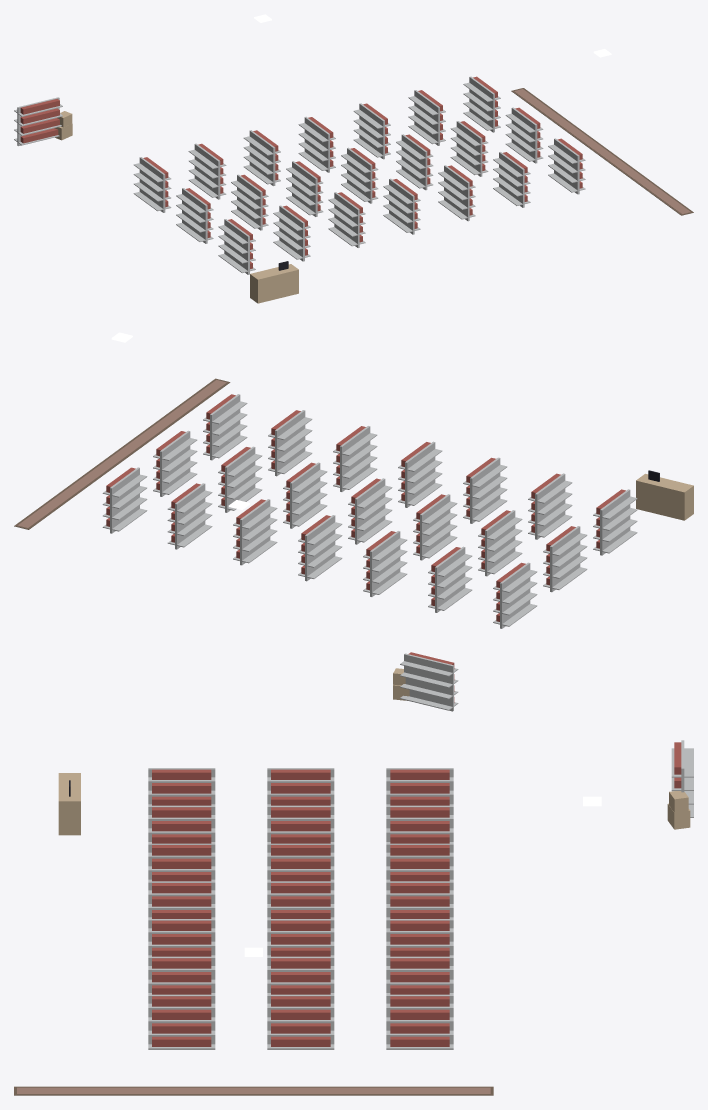
The model's file is fine-s0.glb.
3 views of the same model, one above another, from view 1: azimuth 30°, elevation 25°; view 2: azimuth 150°, elevation 25°; view 3: azimuth 270°, elevation 25° (orthographic). The views are drawn at different scales.
Visible parts, largest first — view 1: soft-s0, shelving.000, shop-counter.000, shelf.019, shelf.003, shelf.000, shelf.013, shelf.016, shelf.006, shelf.009, shelf.020, shelf.004 (+12 smaller); view 2: soft-s0, shelving.000, shop-counter.000, shelf.015, shelf.004, shelf.002, shelf.007, shelf.010, shelf.011, shelf.012, shelf.013, shelf.003 (+12 smaller); view 3: soft-s0, shelf.018, shelf.019, shelf.020, shelf.003, shelf.006, shelf.015, shelf.004, shelf.005, shelf.016, shelf.017, shelf.007 (+13 smaller).
Boxes of the visible parts, x1,y1,x2,y2 form: soft-s0: (511, 88, 693, 215); shelving.000: (14, 97, 62, 146); shop-counter.000: (250, 261, 298, 303); shelf.019: (505, 107, 543, 163); shelf.003: (188, 143, 226, 199); shelf.000: (133, 157, 171, 212); shelf.013: (396, 134, 433, 190); shelf.016: (450, 121, 488, 176); shelf.006: (243, 130, 280, 186); shelf.009: (298, 116, 335, 172); shelf.020: (548, 138, 585, 194); shelf.004: (231, 174, 268, 230); soft-s0: (14, 378, 230, 529); shelving.000: (400, 652, 458, 711); shop-counter.000: (636, 470, 693, 520); shelf.015: (167, 483, 212, 549); shelf.004: (478, 510, 522, 576); shelf.002: (593, 489, 637, 555); shelf.007: (413, 494, 457, 560); shelf.010: (348, 478, 392, 544); shelf.011: (398, 441, 442, 507); shelf.012: (233, 499, 277, 565); shelf.013: (283, 462, 327, 528); shelf.003: (428, 546, 472, 612); soft-s0: (14, 1086, 493, 1095); shelf.018: (386, 994, 453, 1049); shelf.019: (267, 994, 334, 1049); shelf.020: (148, 994, 215, 1049); shelf.003: (386, 805, 453, 843); shelf.006: (386, 843, 453, 881); shelf.015: (386, 956, 453, 994); shelf.004: (267, 805, 334, 843); shelf.005: (148, 805, 215, 843); shelf.016: (267, 956, 334, 994); shelf.017: (148, 956, 215, 994); shelf.007: (267, 843, 334, 881).
Size of the model in its own units: 19.15 by 4.15 by 18.26.
